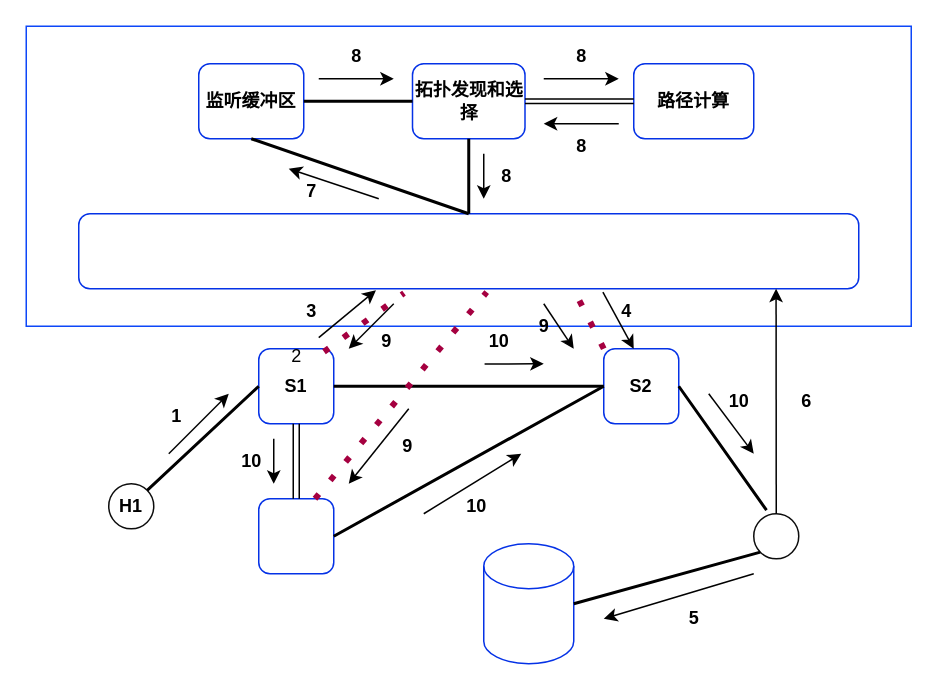
Some shapes in this 938 by 690 pixel diagram are drawn without their labels. The shapes that lost their labels are listed below. From the top down, each one's centre as x and y in pixels, then its label:
At [468,250]: "SDN控制器".
At [295,535]: "S3".
At [775,535]: "H2".
